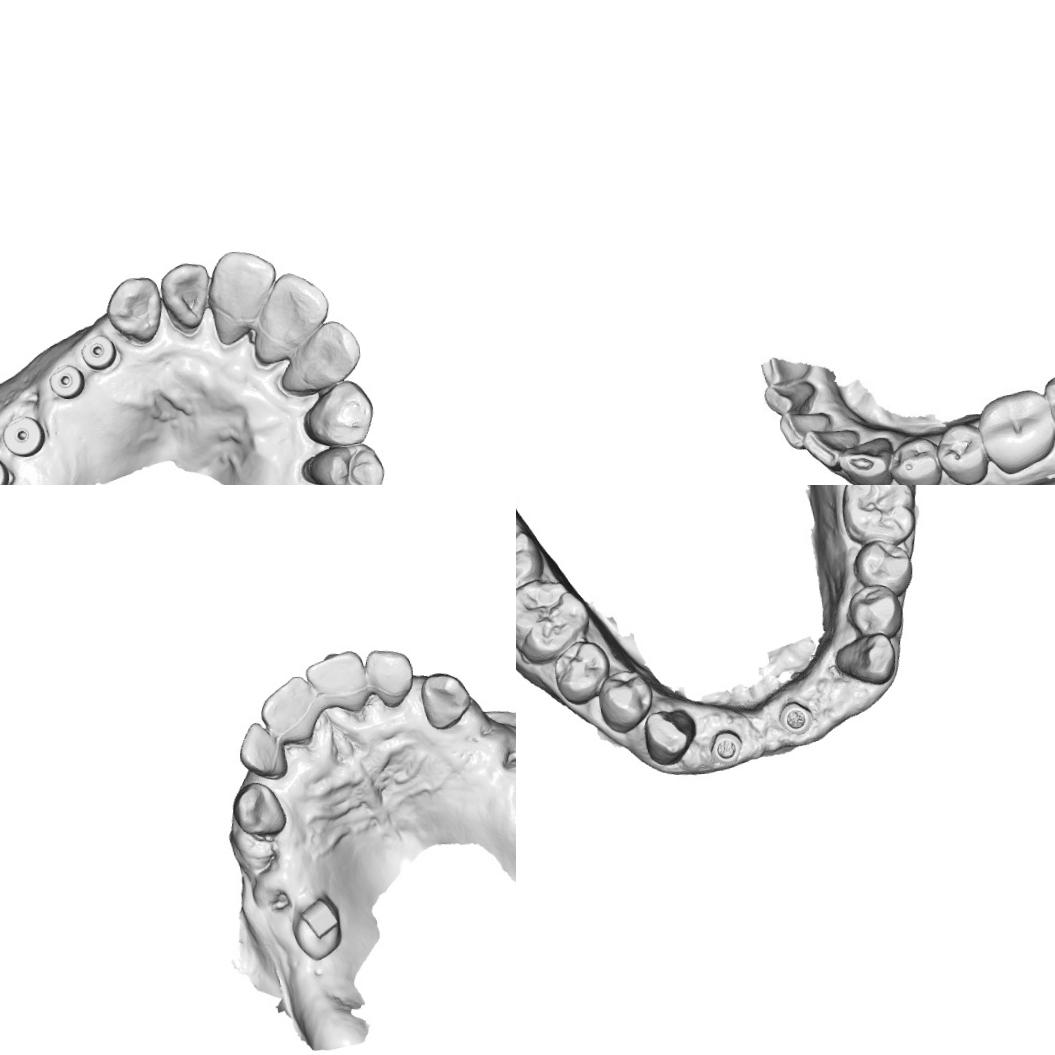canine: (298, 376, 376, 448), (103, 273, 164, 346), (830, 631, 898, 686), (228, 778, 288, 840), (418, 668, 474, 733), (640, 708, 695, 765), (838, 432, 895, 485)
implant: (0, 414, 47, 459), (78, 332, 120, 373), (773, 697, 814, 737), (47, 363, 86, 401), (713, 727, 749, 763)
incisor: (206, 247, 278, 338), (258, 268, 332, 346), (295, 316, 363, 388), (254, 672, 318, 748), (302, 648, 370, 716), (158, 260, 214, 337), (362, 644, 416, 710), (235, 718, 289, 781), (804, 424, 862, 467), (781, 407, 836, 449), (764, 378, 816, 412)
molar: (516, 571, 588, 665), (979, 387, 1055, 472), (836, 485, 917, 546), (516, 516, 540, 602)
premolar: (930, 418, 992, 485), (297, 439, 386, 485), (552, 637, 609, 707), (848, 536, 914, 595), (596, 667, 652, 732), (845, 580, 902, 632), (888, 437, 942, 485)
